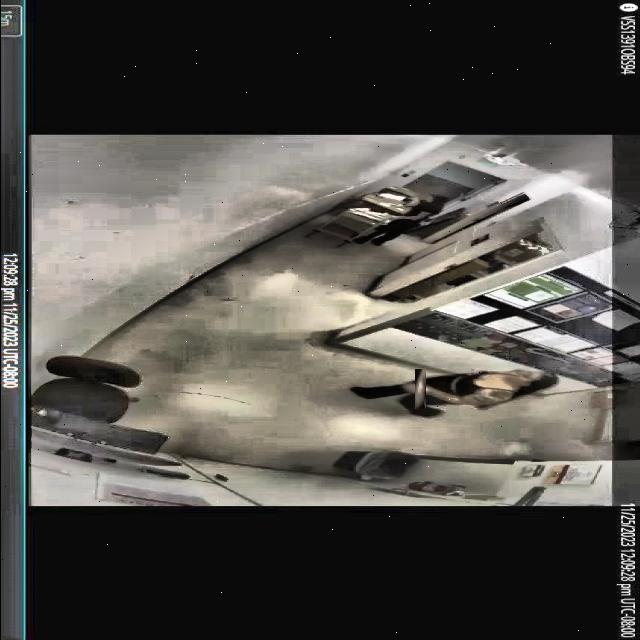not-gloved: (407, 376, 433, 402)
